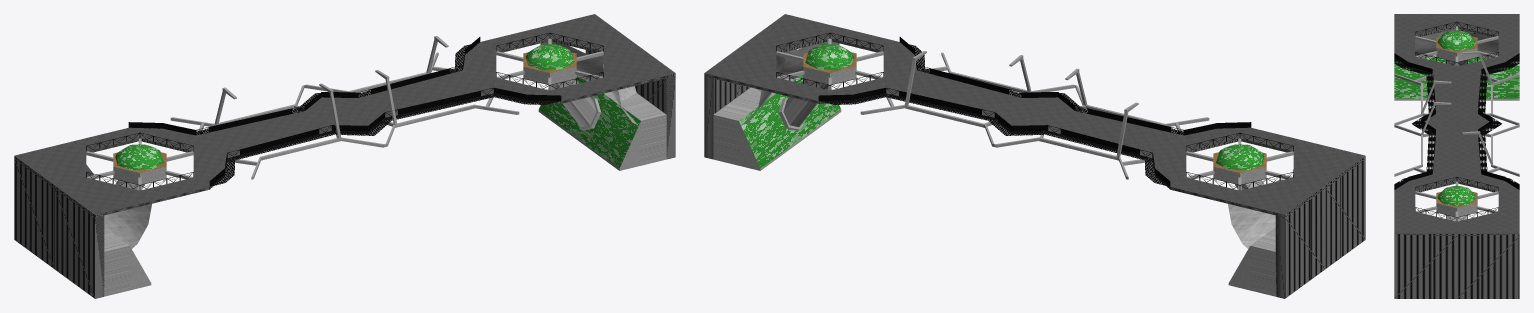
The model's file is FootBridge1.fbx.
3 views of the same model, side by side, from view 1: azimuth 30°, elevation 25°; view 2: azimuth 150°, elevation 25°; view 3: azimuth 270°, elevation 25° (orthographic). The views are drawn at different scales.
Visible parts, largest first — view 1: footbridge1; view 2: footbridge1; view 3: footbridge1.
Part boxes in pixels (x1,y1,x2,y2): footbridge1: (14, 14, 675, 298); footbridge1: (704, 14, 1365, 298); footbridge1: (1394, 14, 1519, 298).
Bounding box in the file's own units: 2167 × 448 × 523.
